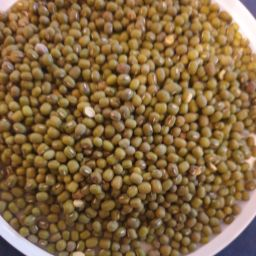Green gram dal(moong): (25, 75, 253, 189), (107, 2, 179, 255), (49, 2, 112, 256), (174, 3, 239, 245), (1, 10, 64, 244), (209, 13, 256, 212)
